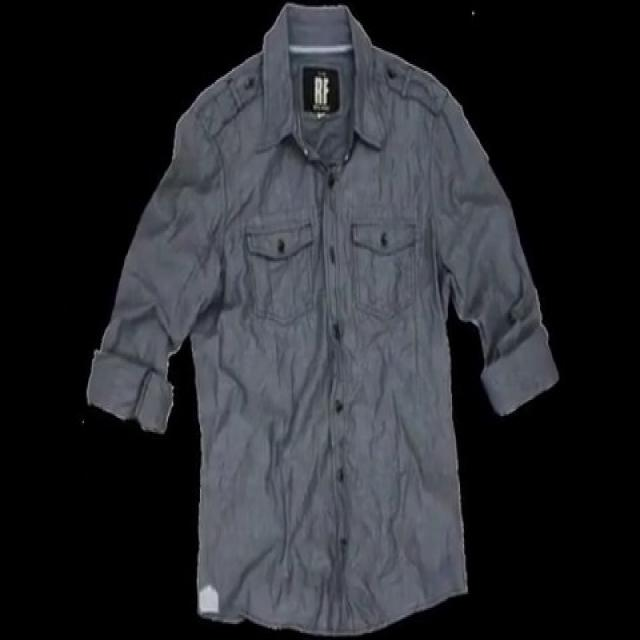Shirt: (86, 0, 560, 640)
